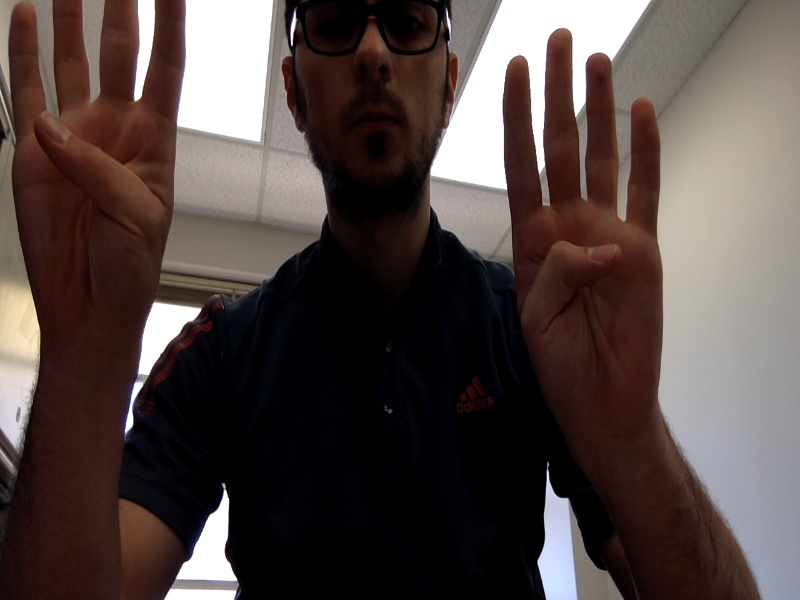4-hand: (502, 29, 663, 443), (10, 1, 186, 324)
